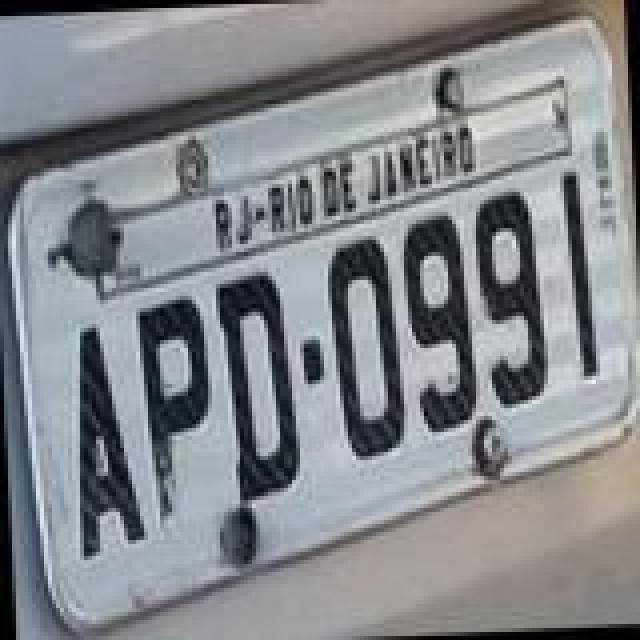1: (556, 164, 604, 380)
9: (396, 210, 484, 438), (470, 184, 554, 408)
A: (62, 318, 146, 562)
D: (210, 266, 302, 502)
O: (326, 234, 410, 470)
P: (134, 294, 218, 530)
